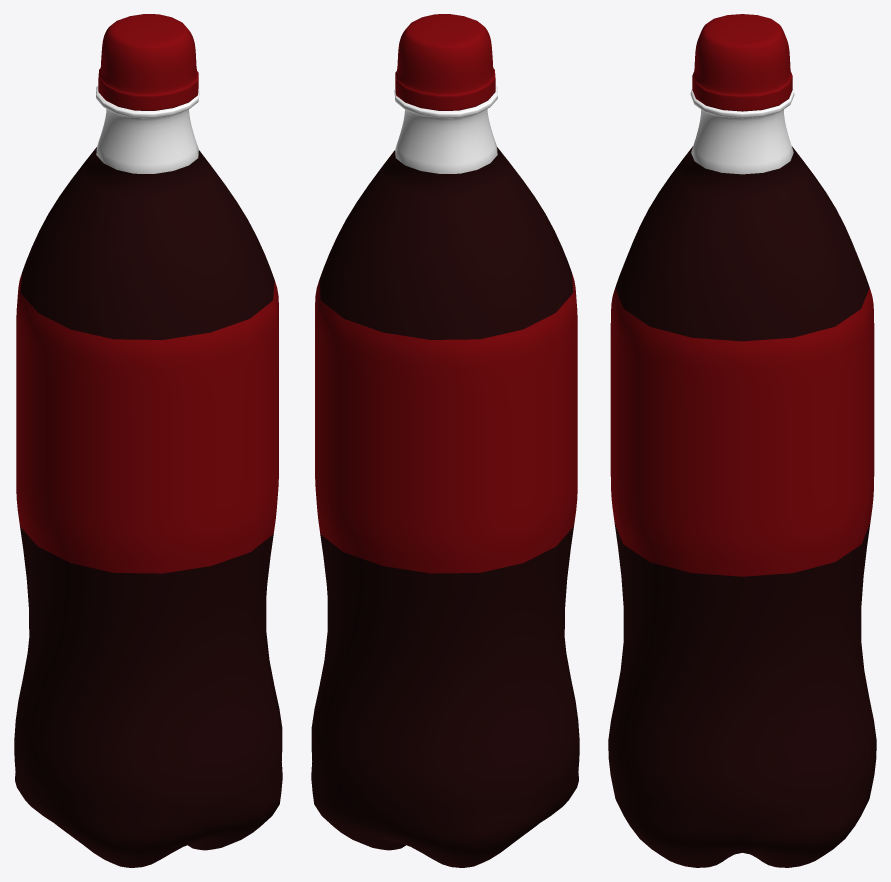
File: Coke.fbx
3 views of the same model, side by side, from view 1: azimuth 30°, elevation 25°; view 2: azimuth 150°, elevation 25°; view 3: azimuth 270°, elevation 25° (orthographic).
Visible parts, largest first — view 1: Plane; view 2: Plane; view 3: Plane.
Boxes of the visible parts, x1,y1,x2,y2 form: Plane: (14,14,282,867); Plane: (311,14,579,867); Plane: (608,14,876,867).
Bounding box in the file's own units: 50.25 × 169 × 50.25.
